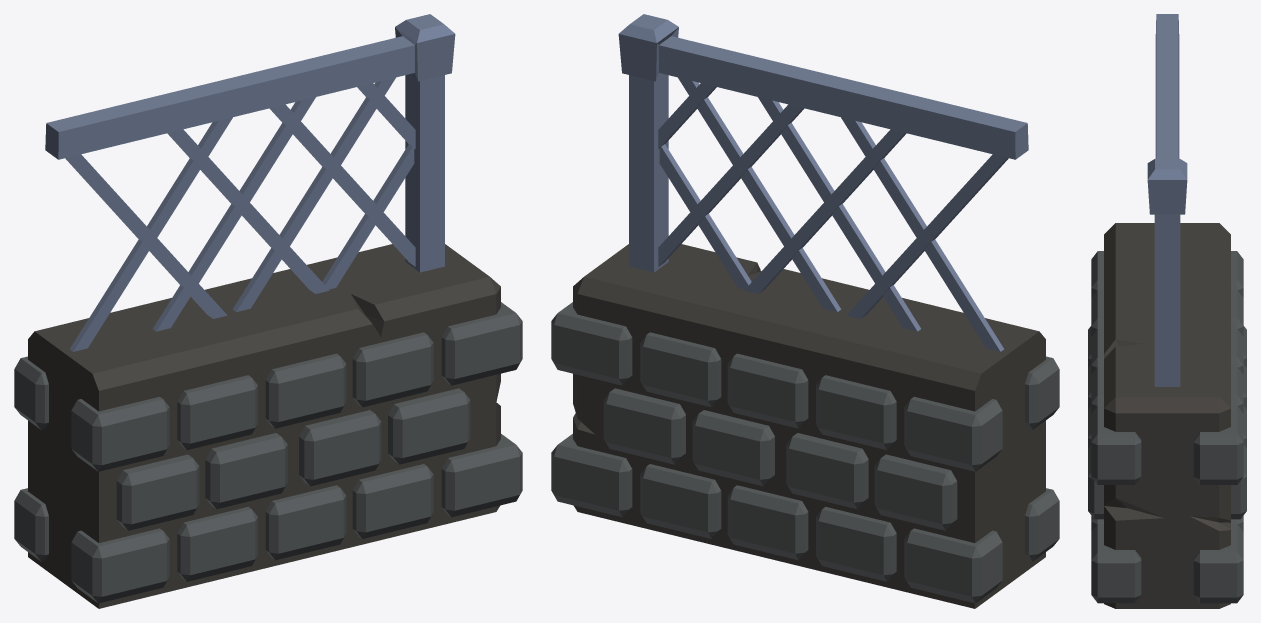
The model's file is SM_DeskBarrier.fbx.
The picture shows the model from 3 angles, left to right: view 1: azimuth 30°, elevation 25°; view 2: azimuth 150°, elevation 25°; view 3: azimuth 270°, elevation 25°; orthographic projection. The views are drawn at different scales.
Visible parts, largest first — view 1: SM_DeskBarrier; view 2: SM_DeskBarrier; view 3: SM_DeskBarrier.
Boxes of the visible parts, <box> form: SM_DeskBarrier: <box>14,14,522,608</box>; SM_DeskBarrier: <box>551,14,1059,608</box>; SM_DeskBarrier: <box>1088,14,1246,608</box>.
Size of the model in its own units: 211 by 221 by 74.96.
